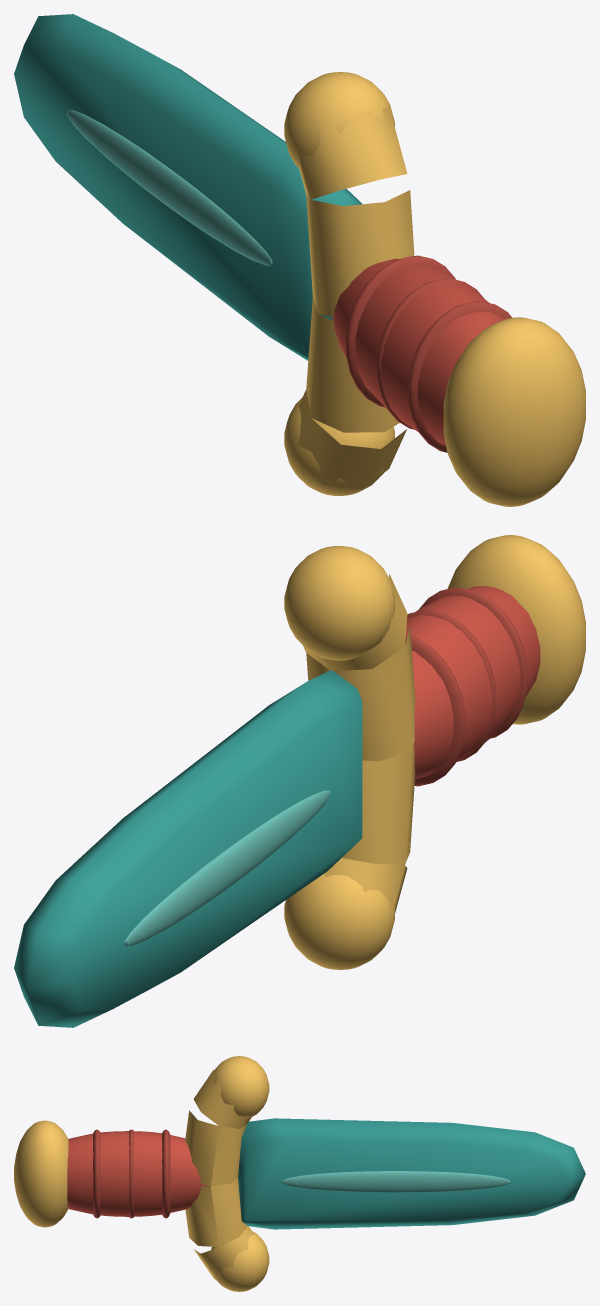
Rendered from toy_sword.glb.
3 views of the same model, one above another, from view 1: azimuth 30°, elevation 25°; view 2: azimuth 150°, elevation 25°; view 3: azimuth 270°, elevation 25° (orthographic). The views are drawn at different scales.
Parts seen in each view (by area): view 1: RoundedToyBlade, CurvedCrossguard, Pommel, Grip, MoldedBladeRib, _MeshInstance3D_3, SoftGuardEnd, GripRidge2, GripRidge0, GripRidge1; view 2: RoundedToyBlade, CurvedCrossguard, Grip, Pommel, _MeshInstance3D_3, SoftGuardEnd, MoldedBladeRib, GripRidge0, GripRidge2, GripRidge1; view 3: RoundedToyBlade, Grip, CurvedCrossguard, Pommel, _MeshInstance3D_2, _MeshInstance3D_3, SoftGuardEnd, GripRidge0, GripRidge2, GripRidge1.
Part boxes in pixels (left/top/right/bottom): RoundedToyBlade: left=14, top=14, right=362, bottom=360; CurvedCrossguard: left=298, top=107, right=414, bottom=489; Pommel: left=443, top=317, right=585, bottom=506; Grip: left=332, top=258, right=505, bottom=445; MoldedBladeRib: left=67, top=110, right=272, bottom=265; _MeshInstance3D_3: left=284, top=72, right=394, bottom=169; SoftGuardEnd: left=284, top=398, right=394, bottom=495; GripRidge2: left=408, top=301, right=512, bottom=452; GripRidge0: left=346, top=255, right=455, bottom=407; GripRidge1: left=377, top=278, right=483, bottom=429; RoundedToyBlade: left=14, top=670, right=362, bottom=1027; CurvedCrossguard: left=303, top=574, right=415, bottom=912; Grip: left=406, top=586, right=540, bottom=779; Pommel: left=447, top=535, right=585, bottom=724; _MeshInstance3D_3: left=284, top=546, right=394, bottom=660; SoftGuardEnd: left=284, top=874, right=394, bottom=969; MoldedBladeRib: left=125, top=790, right=330, bottom=945; GripRidge0: left=405, top=634, right=465, bottom=786; GripRidge2: left=419, top=587, right=527, bottom=738; GripRidge1: left=407, top=610, right=496, bottom=761; RoundedToyBlade: left=238, top=1118, right=585, bottom=1229; Grip: left=67, top=1131, right=209, bottom=1216; CurvedCrossguard: left=185, top=1069, right=254, bottom=1283; Pommel: left=14, top=1120, right=68, bottom=1227; _MeshInstance3D_2: left=282, top=1171, right=509, bottom=1192; _MeshInstance3D_3: left=214, top=1056, right=269, bottom=1118; SoftGuardEnd: left=211, top=1231, right=269, bottom=1291; GripRidge0: left=162, top=1129, right=170, bottom=1218; GripRidge2: left=93, top=1129, right=100, bottom=1218; GripRidge1: left=129, top=1129, right=133, bottom=1218.
Size of the model in its own units: 0.1549 by 0.464 by 1.04.
